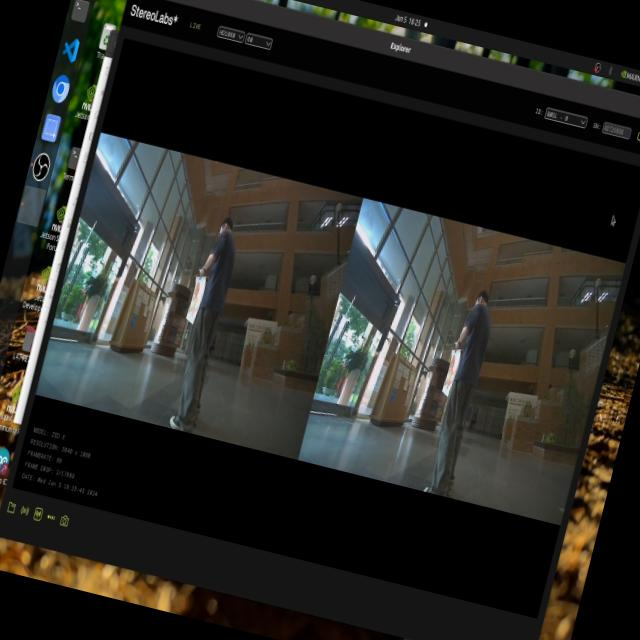red: (182, 274, 206, 324), (441, 348, 464, 395)
